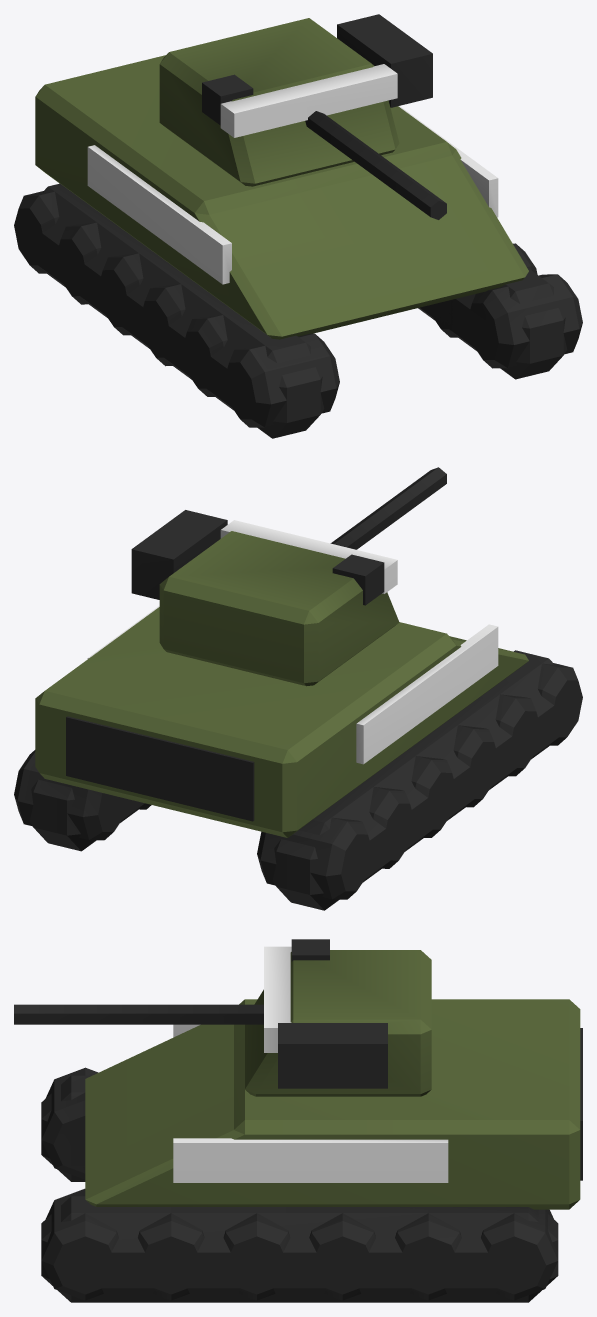
File: ua-bradley.glb
The picture shows the model from 3 angles, top to bottom: view 1: azimuth 30°, elevation 25°; view 2: azimuth 150°, elevation 25°; view 3: azimuth 270°, elevation 25°; orthographic projection.
Visible parts, largest first — view 1: ua-bradley, turret; view 2: ua-bradley, turret; view 3: ua-bradley, turret.
Boxes of the visible parts, bbox=[...] form: ua-bradley: bbox=[14, 55, 582, 438]; turret: bbox=[159, 14, 446, 219]; ua-bradley: bbox=[14, 606, 582, 910]; turret: bbox=[131, 467, 446, 686]; ua-bradley: bbox=[41, 999, 582, 1302]; turret: bbox=[14, 939, 431, 1096].
Bounding box in the file's own units: 0.7 × 0.51 × 1.04.
